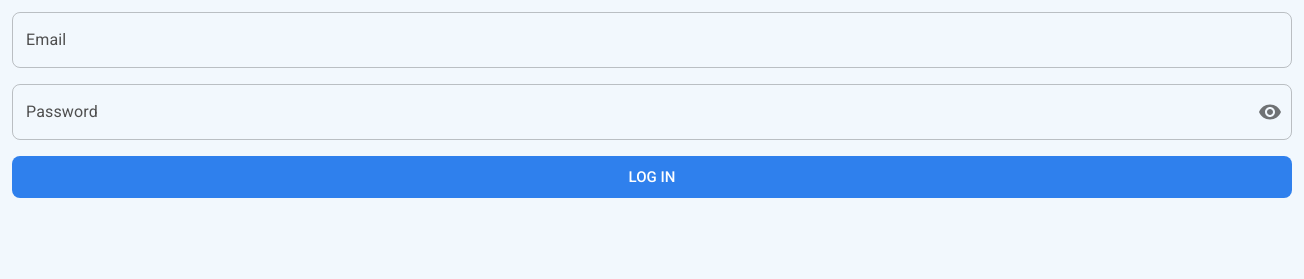
Test: LoginForm › explains rate limiting in plain words
Type "ryu@example.com" into the field labelled "Email" at point(652, 40), box [12,12,1292,68]
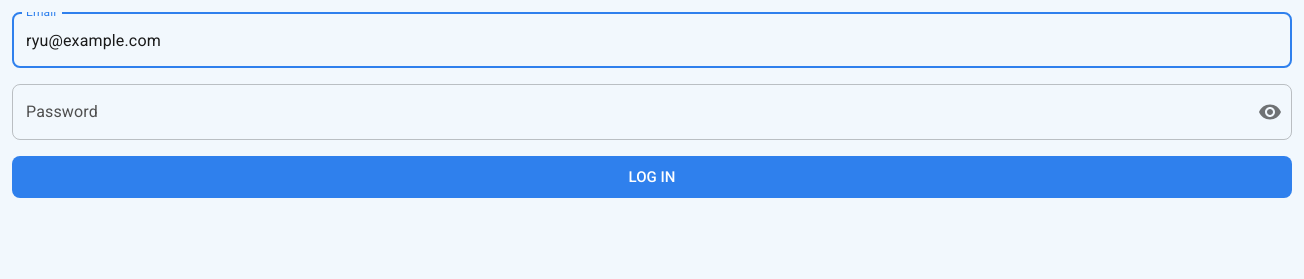
Type "hadouken-2026" into the password field labelled "Password" at point(627, 112), box [12,84,1242,140]
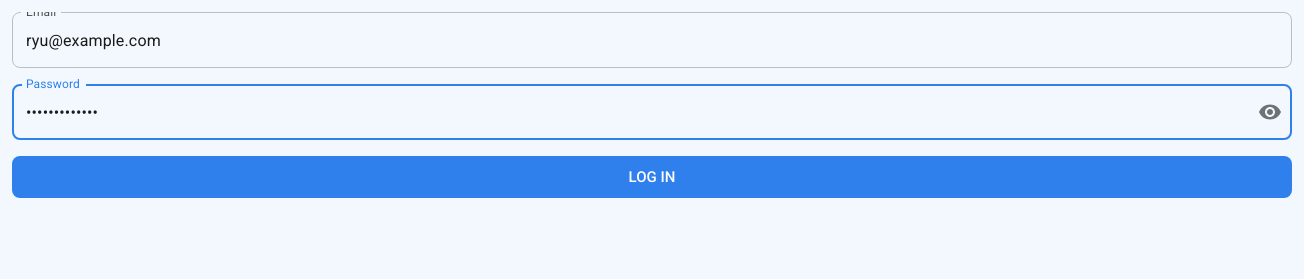
Click the button "Log in" at point(652, 177), box [12,156,1292,198]
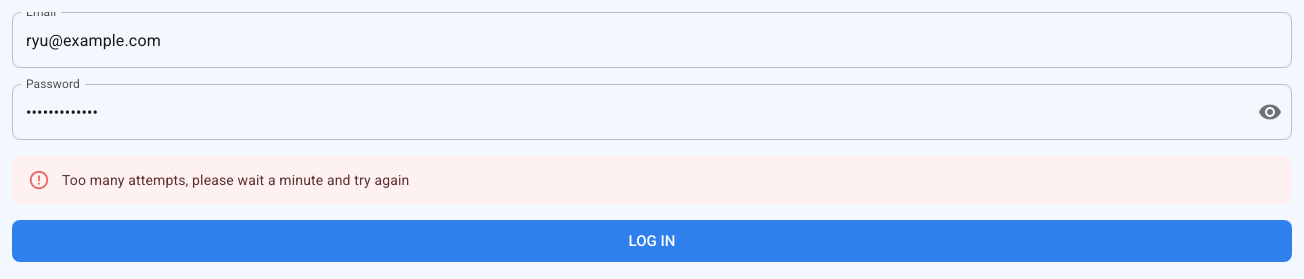
Result: the message reads "Too many attempts, please wait a minute and try again" at [62,172,409,188]
